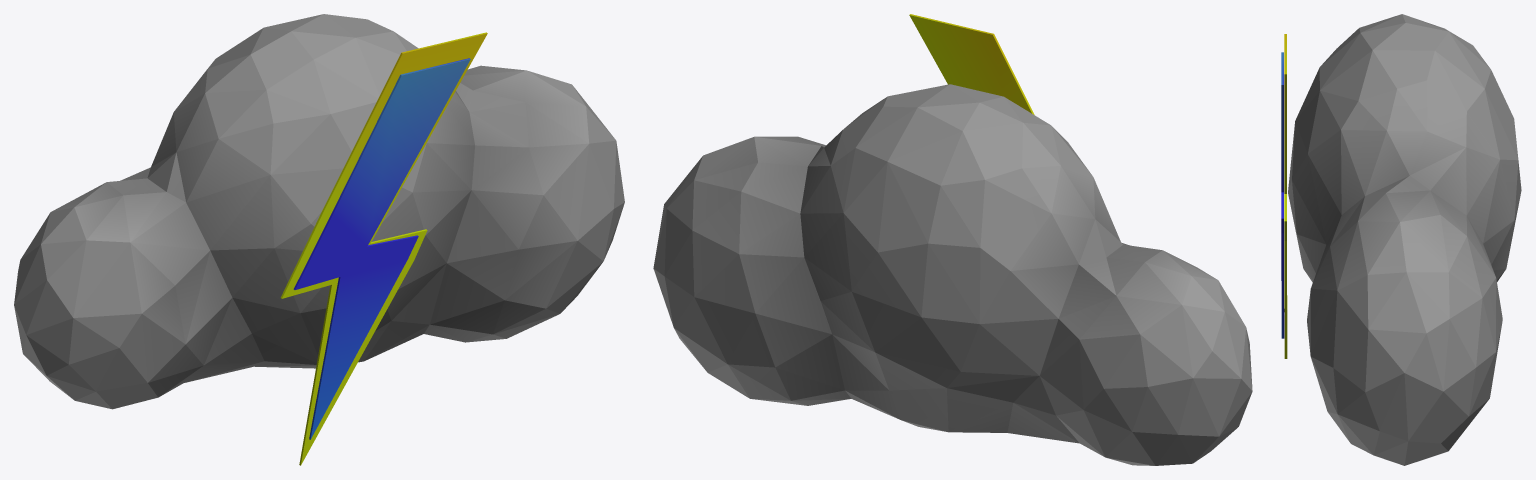
File: TrovaoDeZeus (1).fbx
3 renders of one model, left to right at view 1: azimuth 30°, elevation 25°; view 2: azimuth 150°, elevation 25°; view 3: azimuth 270°, elevation 25°, orthographic. The views are drawn at different scales.
Visible parts, largest first — view 1: TrovaoDeZeus; view 2: TrovaoDeZeus; view 3: TrovaoDeZeus.
Part boxes in pixels (x1,y1,x2,y2): TrovaoDeZeus: [14, 14, 624, 465]; TrovaoDeZeus: [653, 14, 1252, 465]; TrovaoDeZeus: [1281, 14, 1521, 465].
Bounding box in the file's own units: 252 × 157 × 91.7.
